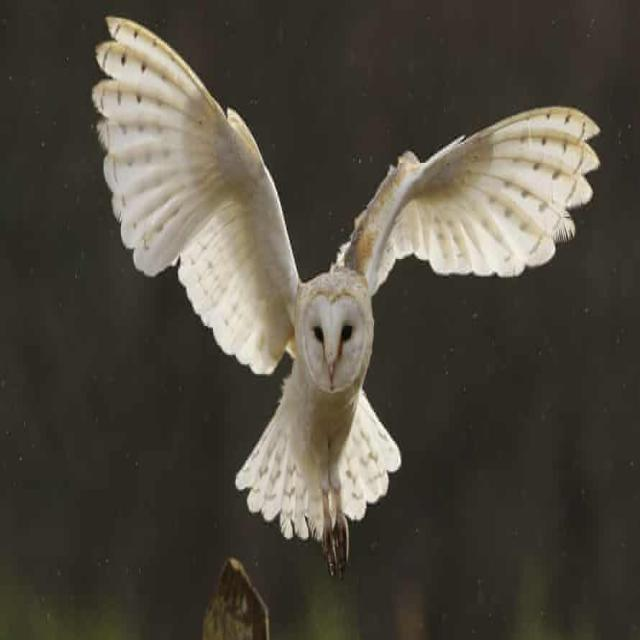Owl: (87, 11, 606, 548)
